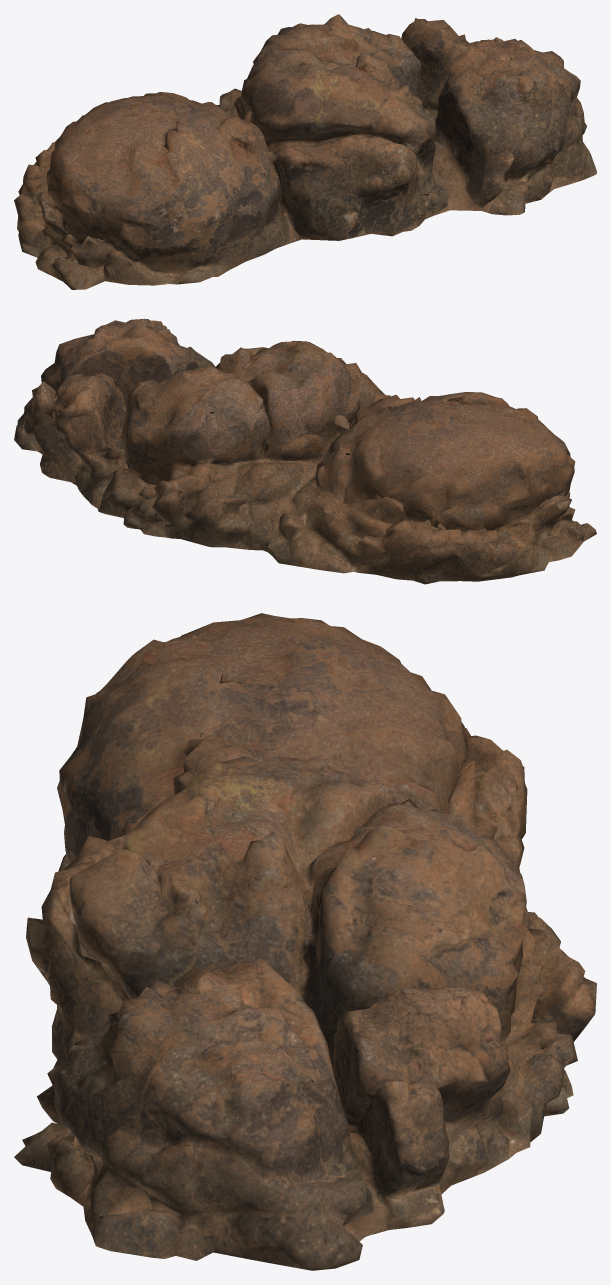
The model's file is SM_ydsmfjl_tier_2.gltf.
The picture shows the model from 3 angles, top to bottom: view 1: azimuth 30°, elevation 25°; view 2: azimuth 150°, elevation 25°; view 3: azimuth 270°, elevation 25°; orthographic projection. The views are drawn at different scales.
Visible parts, largest first — view 1: ydsmfjl_LOD2_TIER2_000; view 2: ydsmfjl_LOD2_TIER2_000; view 3: ydsmfjl_LOD2_TIER2_000.
Part boxes in pixels (x1=…): ydsmfjl_LOD2_TIER2_000: x1=14, y1=14, x2=596, y2=289; ydsmfjl_LOD2_TIER2_000: x1=14, y1=318, x2=596, y2=584; ydsmfjl_LOD2_TIER2_000: x1=14, y1=613, x2=596, y2=1270.
Bounding box in the file's own units: 1.2 × 0.2897 × 0.5975.
Materials: 1 (1 with a texture image).
